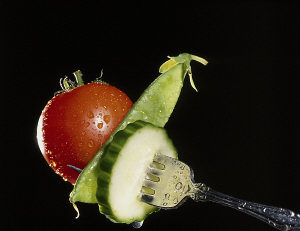cucumber: (95, 121, 180, 225)
